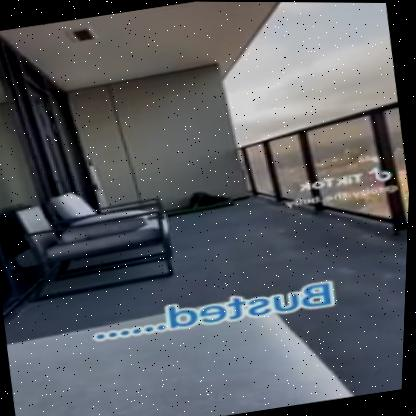dog: (176, 174, 238, 216)
